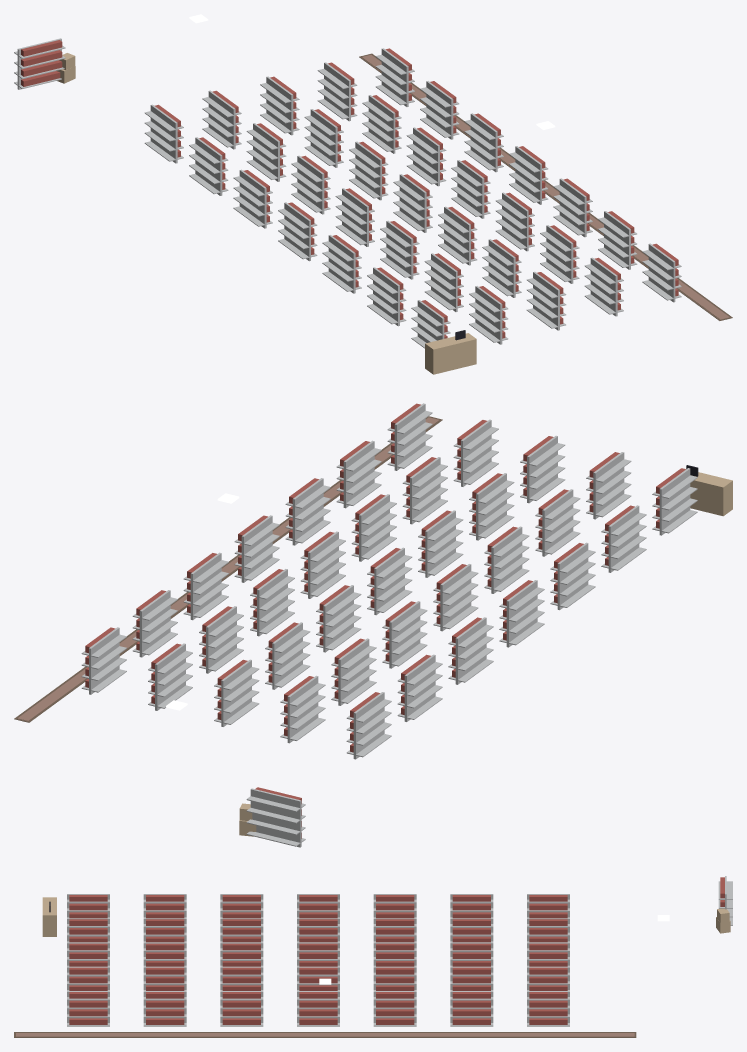
Rendered from fine-s0.glb.
3 renders of one model, top to bottom at view 1: azimuth 30°, elevation 25°; view 2: azimuth 150°, elevation 25°; view 3: azimuth 270°, elevation 25°, orthographic. The views are drawn at different scales.
Parts seen in each view (by area): view 1: soft-s0, shelving.000, shop-counter.000, shelf.011, shelf.009, shelf.029, shelf.004, shelf.014, shelf.002, shelf.005, shelf.013, shelf.021 (+26 smaller); view 2: shelving.000, soft-s0, shelf.008, shelf.011, shelf.009, shelf.012, shelf.013, shelf.010, shelf.018, shelf.002, shelf.005, shelf.015 (+26 smaller); view 3: soft-s0, shelf.029, shelf.030, shelf.032, shelf.033, shelf.028, shelf.031, shelf.034, shelf.015, shelf.016, shelf.018, shelf.019 (+27 smaller).
Boxes of the visible parts, <box> form: soft-s0: <box>359,53,732,320</box>; shelving.000: <box>14,38,65,89</box>; shop-counter.000: <box>425,330,476,374</box>; shelf.011: <box>380,220,419,279</box>; shelf.009: <box>291,155,330,214</box>; shelf.029: <box>420,81,459,139</box>; shelf.004: <box>322,235,361,293</box>; shelf.014: <box>260,76,299,135</box>; shelf.002: <box>233,169,272,228</box>; shelf.005: <box>367,267,406,326</box>; shelf.013: <box>469,286,508,344</box>; shelf.021: <box>317,62,357,121</box>; shelving.000: <box>246,787,305,847</box>; soft-s0: <box>14,416,442,722</box>; shelf.008: <box>331,638,376,705</box>; shelf.011: <box>484,526,529,593</box>; shelf.009: <box>382,601,427,668</box>; shelf.012: <box>535,489,580,556</box>; shelf.013: <box>586,452,631,519</box>; shelf.010: <box>433,564,478,631</box>; shelf.018: <box>418,510,463,577</box>; shelf.002: <box>448,617,493,684</box>; shelf.005: <box>601,505,646,572</box>; shelf.015: <box>265,622,310,689</box>; soft-s0: <box>14,1032,636,1037</box>; shelf.029: <box>450,991,493,1026</box>; shelf.030: <box>373,991,416,1026</box>; shelf.032: <box>220,991,263,1026</box>; shelf.033: <box>143,991,186,1026</box>; shelf.028: <box>527,991,569,1026</box>; shelf.031: <box>297,991,339,1026</box>; shelf.034: <box>67,991,109,1026</box>; shelf.015: <box>450,942,493,966</box>; shelf.016: <box>373,942,416,966</box>; shelf.018: <box>220,942,263,966</box>; shelf.019: <box>143,942,186,966</box>.
Bounding box in the file's own units: 12.55 × 2.49 × 30.01.
